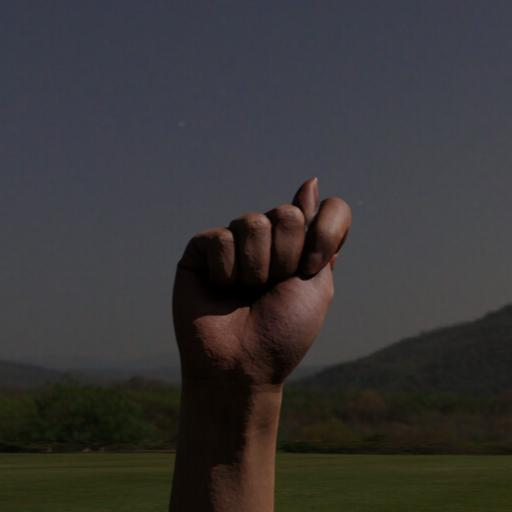T: (158, 169, 366, 434)
